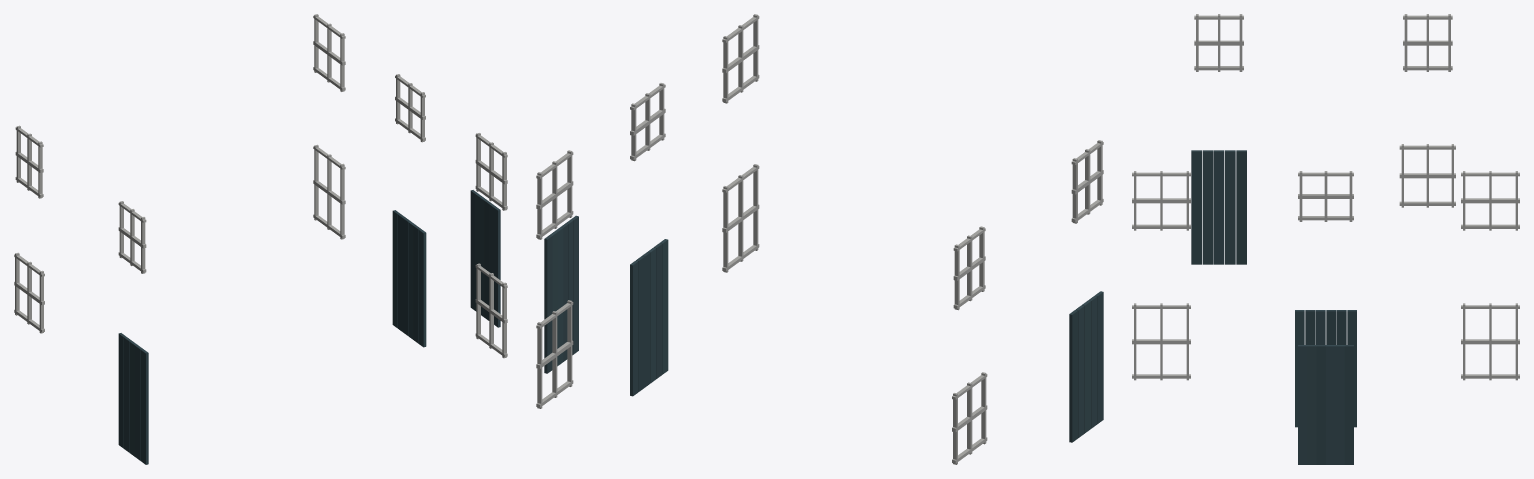
Rendered from SM_Bld_101_Wood.glb.
The picture shows the model from 3 angles, left to right: view 1: azimuth 30°, elevation 25°; view 2: azimuth 150°, elevation 25°; view 3: azimuth 270°, elevation 25°; orthographic projection. The views are drawn at different scales.
Visible parts, largest first — view 1: SM_Bld_101_Wood; view 2: SM_Bld_101_Wood; view 3: SM_Bld_101_Wood.
Boxes of the visible parts, x1,y1,x2,y2 form: SM_Bld_101_Wood: (14, 14, 507, 464); SM_Bld_101_Wood: (536, 14, 1103, 464); SM_Bld_101_Wood: (1132, 14, 1519, 464).
Size of the model in its own units: 7.68 by 4.52 by 6.22.
